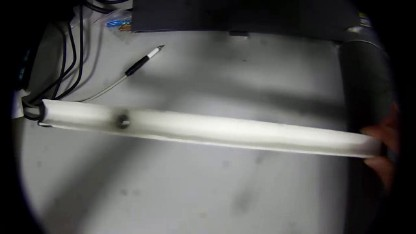gangzhu: (113, 110, 131, 132)
